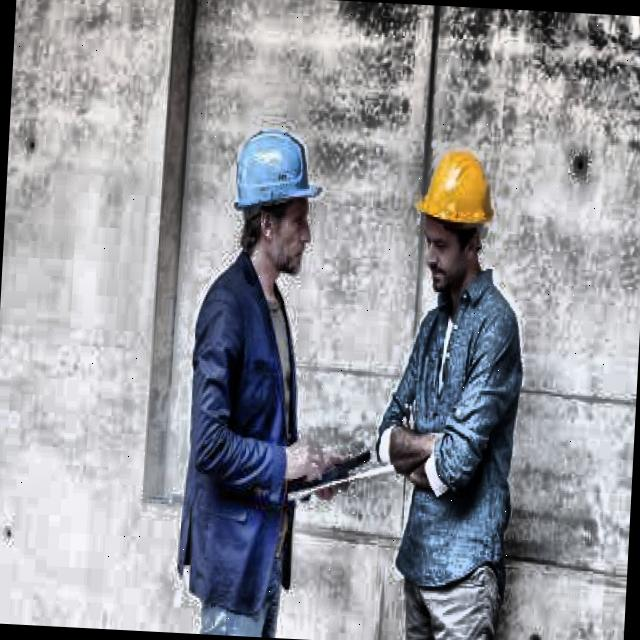helmet: (218, 95, 333, 305), (408, 134, 496, 292)
